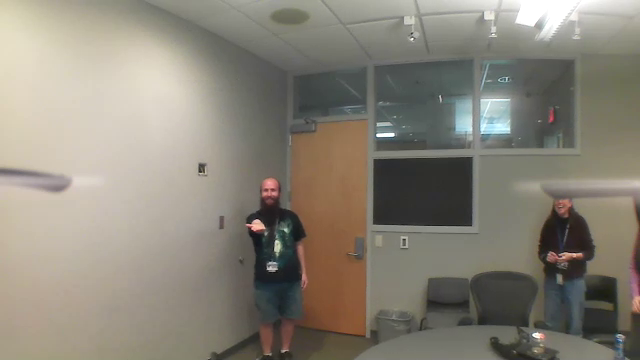land: (239, 214, 270, 237)
